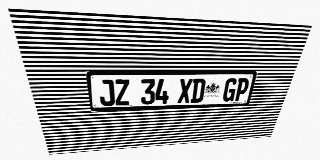3: (141, 79, 155, 105)
4: (155, 79, 170, 104)
D: (190, 78, 206, 103)
G: (222, 78, 238, 102)
J: (98, 79, 115, 106)
P: (233, 78, 250, 101)
X: (177, 79, 193, 103)
Z: (114, 79, 130, 106)
